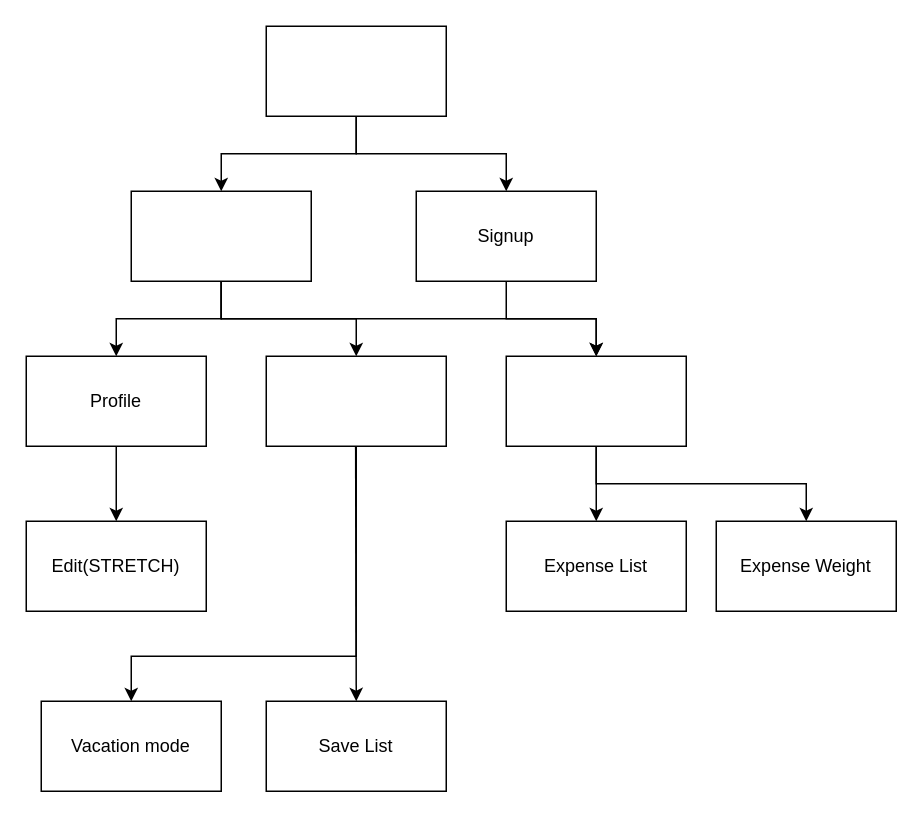
This 923x818 diagram has some shape labels left out. Here are the shapes that lost their labels. From the top down, the centre of each, then its label:
At pixel 355 70: "Application".
At pixel 220 235: "Login".
At pixel 355 400: "Savings".
At pixel 595 400: "Spending".
